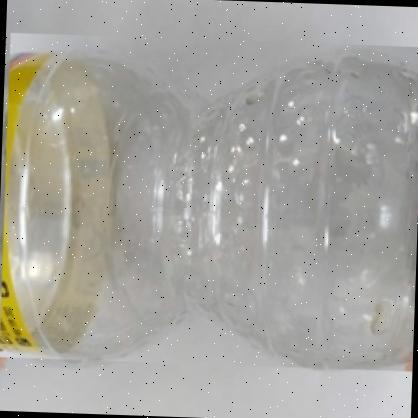bottle: (0, 33, 418, 372)
